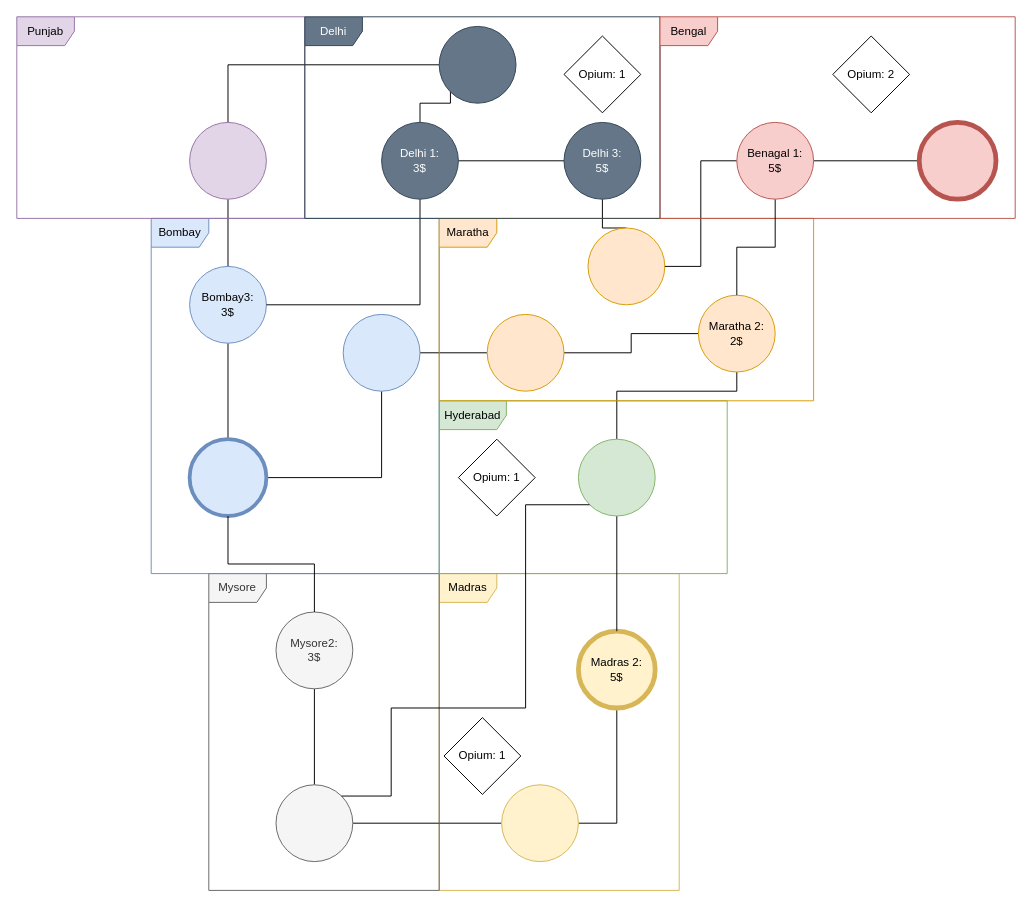
The diagram is 1032 pixels wide and 907 high, and some of its shapes have lost their labels. Each missing label, with the centre of its shape:
"Bengal 2: 6$" belongs at (x=957, y=160).
"Bombay1: 4$" belongs at (x=227, y=477).
"Bombay2: 3$" belongs at (x=381, y=352).
"Delhi 2: 5$" belongs at (x=477, y=64).
"Hyderabad 1: 7$" belongs at (x=616, y=477).
"Madras 1: 4$" belongs at (x=539, y=823).
"Maratha 1: 3$" belongs at (x=525, y=352).
"Maratha 3: 4$" belongs at (x=626, y=266).
"Mysore1: 6$" belongs at (x=314, y=823).
"Punjab1: 7$" belongs at (x=227, y=160).
